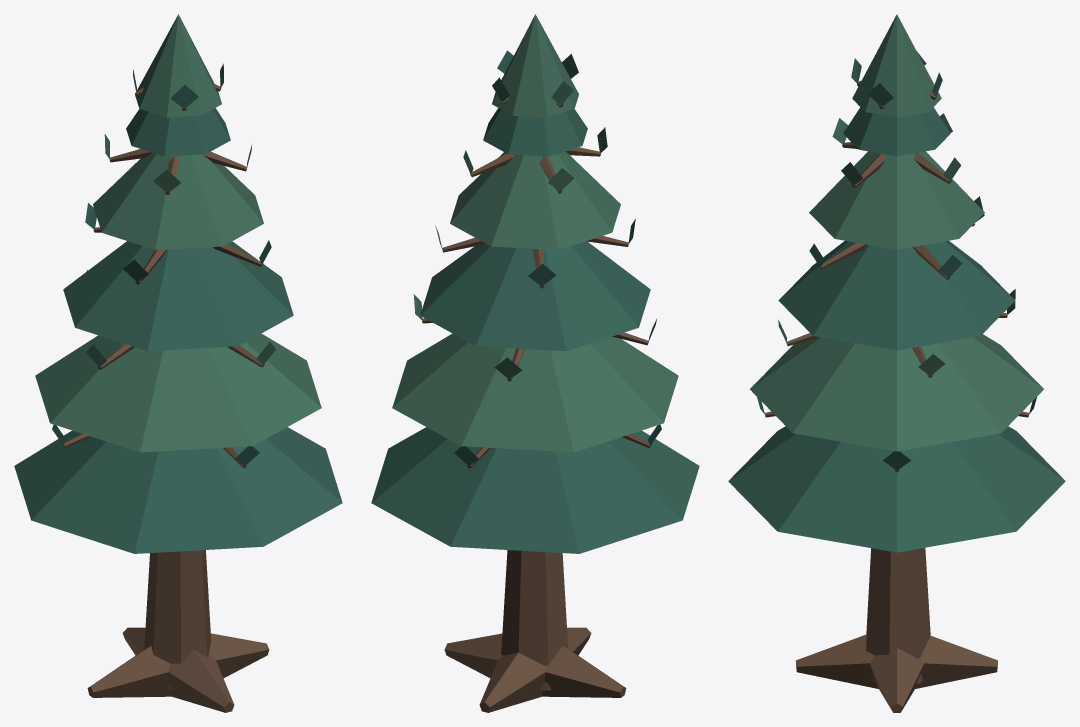
The model's file is xingyin-environment-v2__forest-trees__tree_pineTallA_detailed.glb.
3 renders of one model, left to right at view 1: azimuth 30°, elevation 25°; view 2: azimuth 150°, elevation 25°; view 3: azimuth 270°, elevation 25°, orthographic.
Parts seen in each view (by area): view 1: tree_pineTallA_detailed; view 2: tree_pineTallA_detailed; view 3: tree_pineTallA_detailed.
Part boxes in pixels (<box>): tree_pineTallA_detailed: <box>14,14,342,712</box>; tree_pineTallA_detailed: <box>371,14,699,712</box>; tree_pineTallA_detailed: <box>728,14,1065,712</box>.
Bounding box in the file's own units: 1.88 × 4.1 × 1.88.
